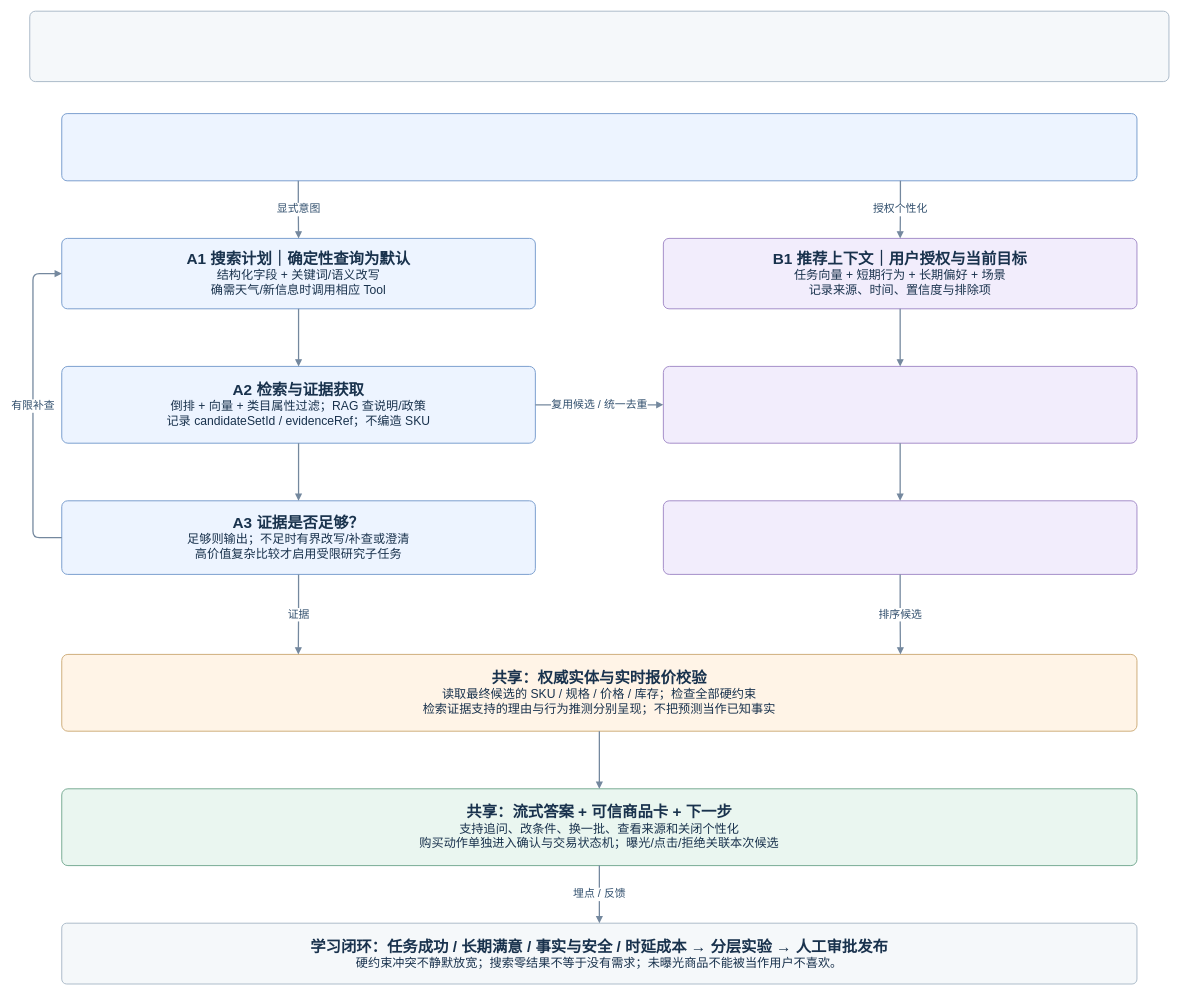
Some shapes in this 1180 by 996 pixel diagram are drawn without their labels. The shapes that lost their labels are listed below. From the top down, each one's centre as x and y in pixels, then its label:
point 599,46: 03 / 执行分工：搜索解决“找什么”，推荐解决“对谁、此刻怎么选” 共享任务状态、候选集合和证据；推荐流可以使用低延迟路径，不要求每次曝光都调用 LLM。
point 599,147: 用户：周末北京徒步，500 元以内，轻便防雨；不要我已买过的装备 抽取显式约束；不明确的日期/用途先澄清；画像只补充，不覆盖本轮要求
point 900,404: B2 候选扩展与用户效用排序 内容/协同/序列/热门等多路召回 排除已购、不适配、不可售；排序系统负责效用估计
point 900,537: B3 集合级重排与约束复核 多样性、互补性、曝光控制、预算与反感反馈 LLM 仅对小候选集补充适配判断/解释，允许弃权
